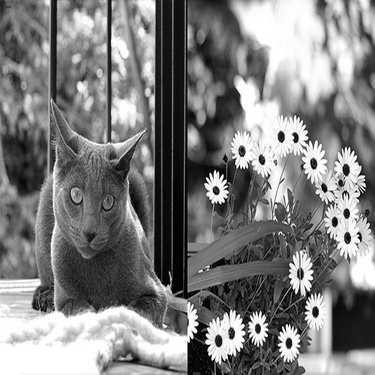cat: (32, 94, 199, 337)
